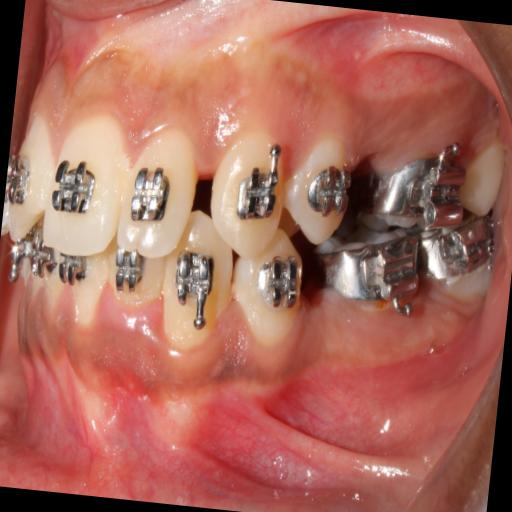correct_brace: (284, 145, 355, 252), (48, 152, 104, 224), (123, 158, 176, 232), (231, 164, 283, 225)
incorrect_brace: (114, 130, 199, 264), (304, 163, 348, 218)
